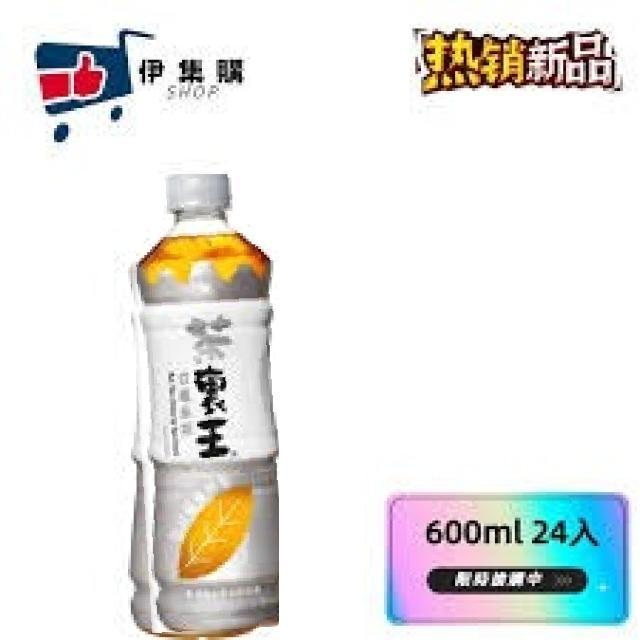ChaLiWong_WhiteOolong: (125, 174, 279, 633)
